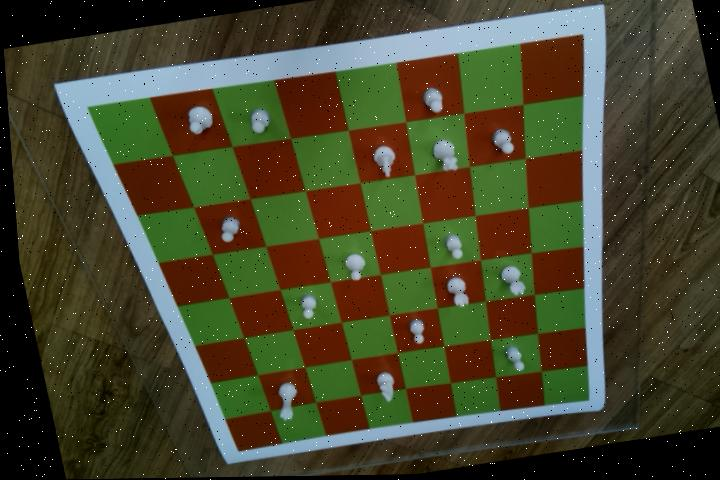chessboard-detect: (84, 37, 582, 453)
